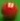red: (0, 0, 20, 21)
